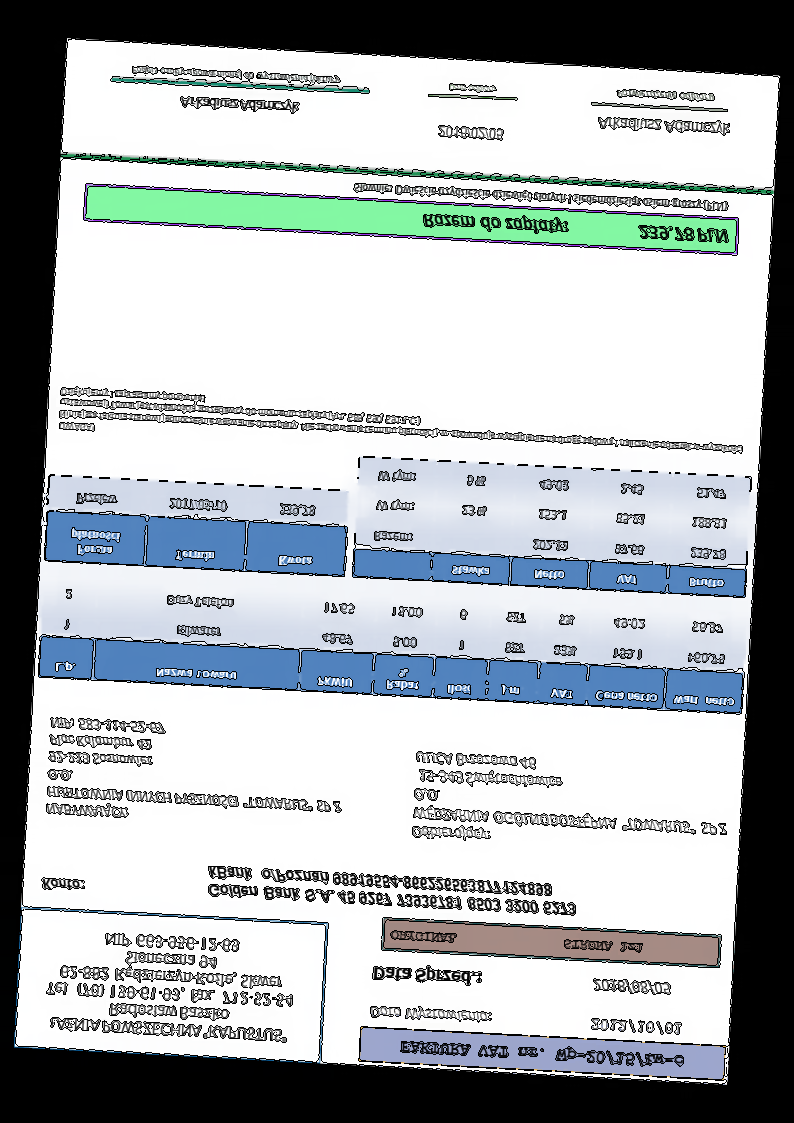Table: (37, 571, 748, 715), (351, 456, 752, 599), (42, 473, 350, 578)
TextBox: (56, 385, 745, 468), (43, 715, 348, 833), (409, 748, 732, 857), (42, 928, 299, 1046), (205, 863, 579, 917), (351, 180, 728, 215), (420, 210, 731, 247), (398, 1037, 688, 1072), (387, 926, 645, 958), (129, 62, 343, 89), (595, 112, 733, 138), (368, 1001, 495, 1027), (370, 962, 484, 989), (178, 93, 301, 116), (589, 1014, 686, 1037), (613, 87, 715, 105), (591, 977, 673, 997), (435, 123, 504, 143), (40, 875, 85, 894), (446, 82, 496, 96)
